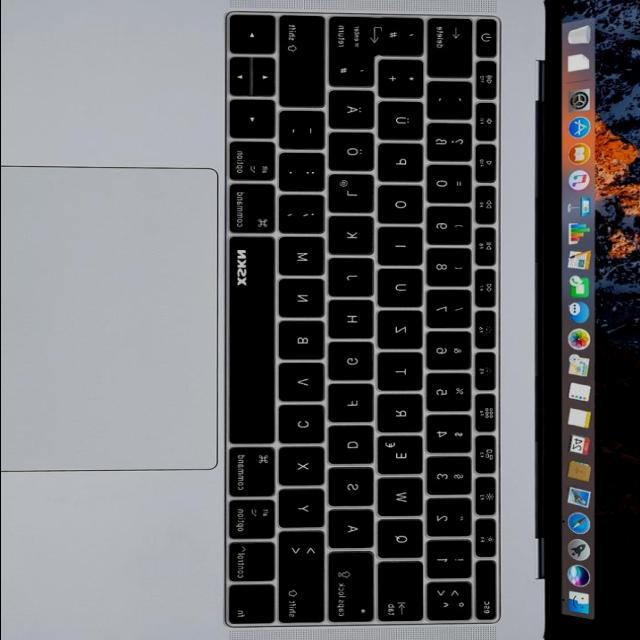0: (429, 166, 475, 206)
1: (430, 542, 476, 581)
2: (429, 500, 475, 540)
3: (429, 458, 475, 498)
4: (429, 416, 475, 456)
5: (428, 374, 474, 414)
6: (429, 333, 475, 373)
7: (428, 292, 474, 332)
8: (428, 250, 474, 290)
9: (429, 208, 475, 248)
a: (331, 512, 377, 552)
accent: (430, 83, 476, 123)
ae: (331, 93, 379, 133)
alt-left: (230, 500, 278, 542)
altgr-right: (231, 142, 279, 185)
b: (281, 322, 329, 363)
c: (280, 406, 328, 447)
caret: (429, 584, 475, 624)
comma: (281, 197, 329, 237)
d: (330, 427, 378, 467)
del: (428, 20, 476, 80)
e: (378, 438, 426, 478)
enter: (329, 18, 427, 56)
f: (331, 386, 377, 426)
g: (330, 344, 378, 384)
h: (330, 302, 378, 342)
hash: (331, 53, 377, 90)
i: (380, 229, 426, 269)
j: (331, 260, 377, 300)
k: (331, 218, 377, 258)
keyboard: (217, 4, 507, 636)
l: (330, 176, 376, 216)
m: (280, 239, 328, 280)
minus: (282, 113, 328, 153)
n: (280, 281, 328, 321)
o: (379, 187, 427, 227)
oe: (330, 134, 378, 174)
p: (379, 145, 427, 185)
plus: (380, 62, 428, 102)
point: (282, 155, 328, 195)
q: (379, 521, 427, 562)
r: (378, 396, 426, 436)
s: (330, 470, 376, 510)
shift-left: (280, 530, 329, 626)
shift-lock: (328, 554, 377, 626)
shift-right: (279, 16, 328, 110)
space: (229, 240, 278, 448)
ss: (429, 125, 475, 165)
strg-left: (229, 543, 278, 585)
t: (379, 356, 427, 394)
tab: (379, 564, 427, 625)
u: (379, 270, 427, 311)
ue: (380, 103, 428, 143)
v: (280, 364, 328, 405)
w: (379, 480, 427, 520)
x: (280, 449, 328, 489)
y: (280, 491, 328, 531)
z: (379, 311, 425, 352)
